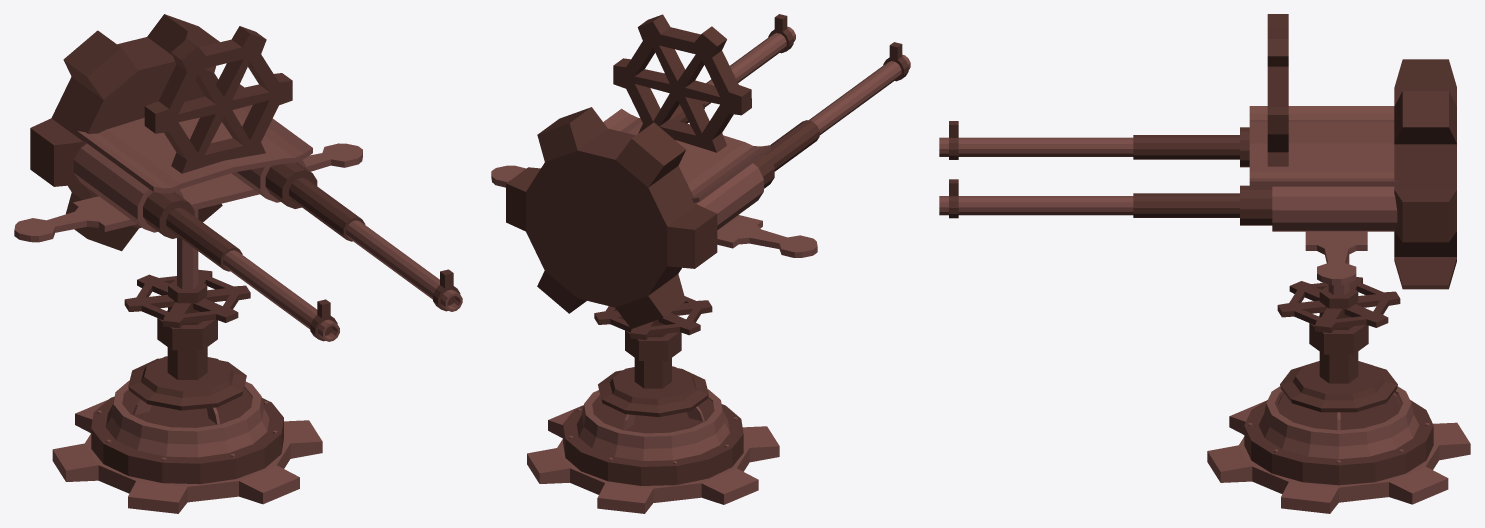
The model's file is gun_8.glb.
The picture shows the model from 3 angles, left to right: view 1: azimuth 30°, elevation 25°; view 2: azimuth 150°, elevation 25°; view 3: azimuth 270°, elevation 25°; orthographic projection. The views are drawn at different scales.
Visible parts, largest first — view 1: _MeshInstance3D_185, _MeshInstance3D_184, _MeshInstance3D_186; view 2: _MeshInstance3D_185, _MeshInstance3D_184, _MeshInstance3D_186; view 3: _MeshInstance3D_185, _MeshInstance3D_184, _MeshInstance3D_186.
Part boxes in pixels (<box>): _MeshInstance3D_185: <box>14,14,462,341</box>; _MeshInstance3D_184: <box>52,356,322,513</box>; _MeshInstance3D_186: <box>124,209,250,379</box>; _MeshInstance3D_185: <box>491,14,910,328</box>; _MeshInstance3D_184: <box>527,366,779,513</box>; _MeshInstance3D_186: <box>594,296,712,388</box>; _MeshInstance3D_185: <box>939,14,1456,289</box>; _MeshInstance3D_184: <box>1207,361,1470,513</box>; _MeshInstance3D_186: <box>1277,255,1400,383</box>.
Size of the model in its own units: 2.02 by 2.51 by 2.78.
